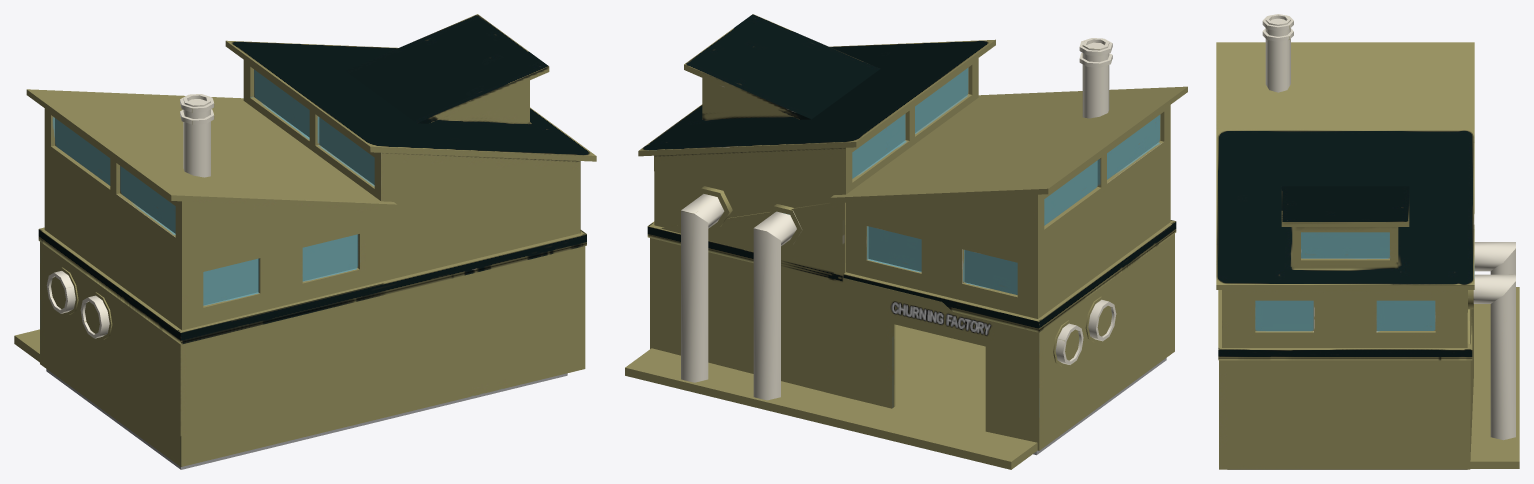
File: Factory.fbx
3 views of the same model, side by side, from view 1: azimuth 30°, elevation 25°; view 2: azimuth 150°, elevation 25°; view 3: azimuth 270°, elevation 25° (orthographic). The views are drawn at different scales.
Parts seen in each view (by area): view 1: Factory; view 2: Factory; view 3: Factory.
Boxes of the visible parts, box(x1,y1,x2,y2) form: Factory: box(14, 14, 596, 469); Factory: box(625, 14, 1187, 469); Factory: box(1216, 14, 1519, 469).
Size of the model in its own units: 1643 by 1249 by 1138.
2 materials, 1 textured.
